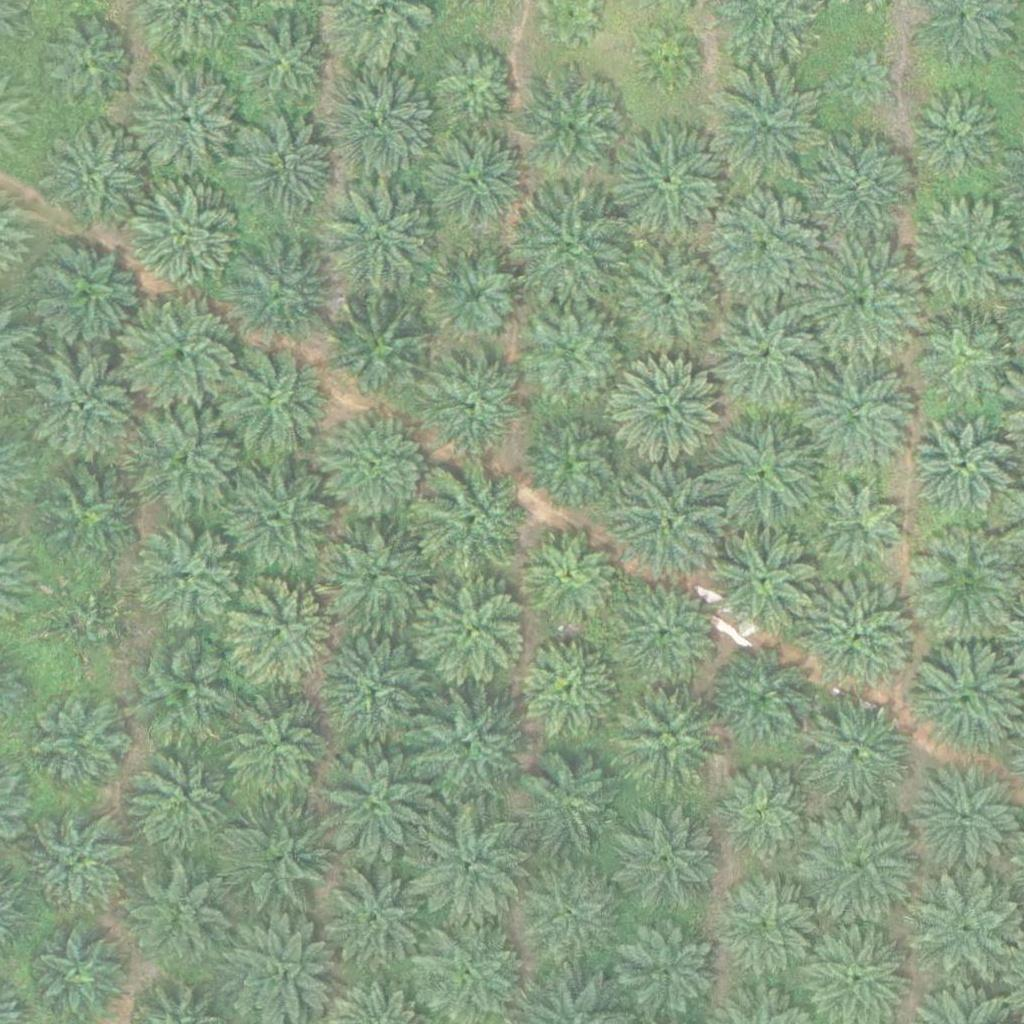Kelapa_Sawit: (328, 292, 441, 406), (36, 117, 149, 231), (213, 344, 326, 458), (320, 410, 433, 524), (418, 463, 531, 577), (415, 574, 528, 688), (516, 746, 629, 860), (706, 66, 819, 179), (710, 189, 823, 302), (612, 126, 725, 239), (324, 68, 437, 181), (325, 183, 438, 296), (227, 13, 340, 126), (28, 238, 141, 351), (27, 353, 140, 466), (30, 459, 143, 572), (128, 641, 241, 754), (316, 523, 429, 636), (612, 356, 725, 469), (705, 301, 818, 414), (708, 415, 821, 528), (709, 520, 822, 633), (803, 580, 916, 693), (909, 761, 1022, 874), (800, 696, 913, 809), (805, 810, 918, 923), (513, 859, 626, 972), (413, 690, 526, 803), (415, 812, 528, 925), (223, 232, 335, 346), (133, 63, 245, 177), (129, 184, 241, 298), (610, 681, 722, 795), (609, 805, 721, 919), (910, 197, 1022, 310), (804, 131, 916, 244), (806, 244, 918, 357), (612, 245, 724, 358), (516, 72, 628, 185), (515, 194, 627, 307), (418, 130, 530, 243), (228, 115, 340, 228), (124, 299, 236, 412), (129, 403, 241, 516), (130, 521, 242, 634), (225, 462, 337, 575), (226, 577, 338, 690), (323, 630, 435, 743), (610, 469, 722, 582), (608, 579, 720, 692), (800, 362, 912, 475), (321, 749, 433, 862), (318, 860, 430, 973), (221, 693, 333, 806), (224, 808, 336, 921), (26, 808, 138, 921), (426, 247, 526, 348), (526, 302, 626, 403), (527, 412, 627, 513), (711, 647, 811, 748), (811, 480, 911, 581), (915, 302, 1015, 403), (911, 413, 1011, 514), (128, 752, 228, 853), (125, 865, 225, 966), (35, 691, 135, 792), (906, 83, 1006, 183), (35, 20, 135, 120), (429, 352, 529, 452), (525, 527, 625, 627), (521, 639, 621, 739), (712, 766, 812, 866), (717, 880, 817, 980), (430, 40, 518, 128), (51, 583, 138, 672), (636, 27, 699, 90), (833, 47, 895, 110)
